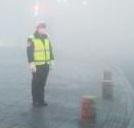person: (27, 19, 54, 109)
